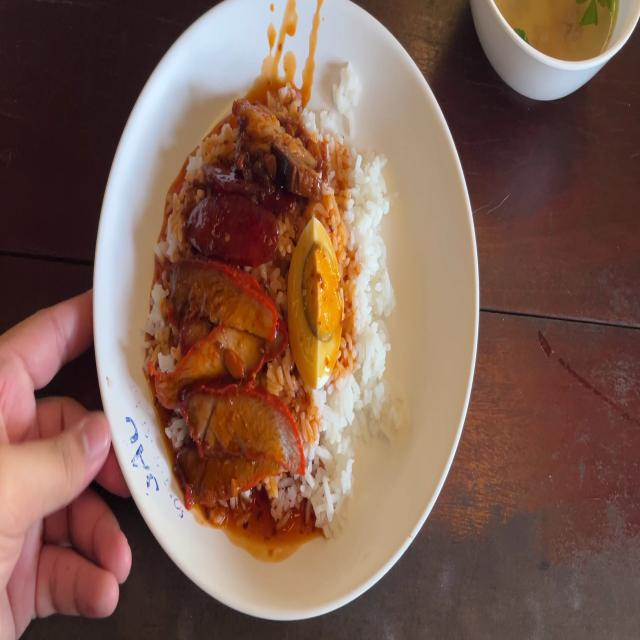01boiled_egg: (290, 218, 343, 382)
01chainese_sausage: (190, 162, 286, 262)
01crispy_pork: (241, 96, 325, 188)
01red_pork: (168, 260, 288, 492)
01red_pork_and_crispy_pork: (167, 84, 398, 524)
01rice: (349, 151, 394, 434), (303, 389, 356, 527)
